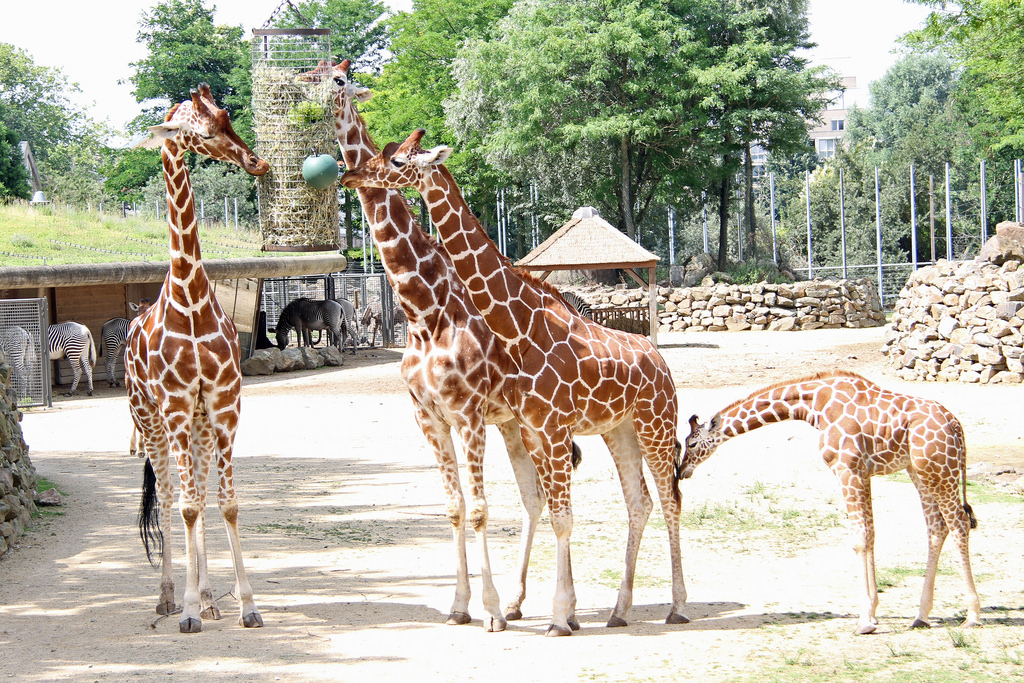giraffe: (350, 123, 690, 635), (290, 48, 570, 636), (101, 88, 308, 627), (653, 353, 999, 636)
